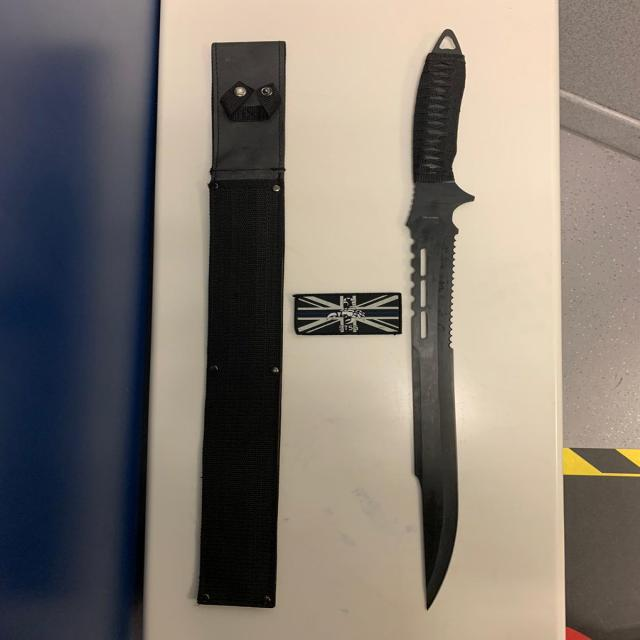Sharp-Object: (405, 28, 478, 612)
